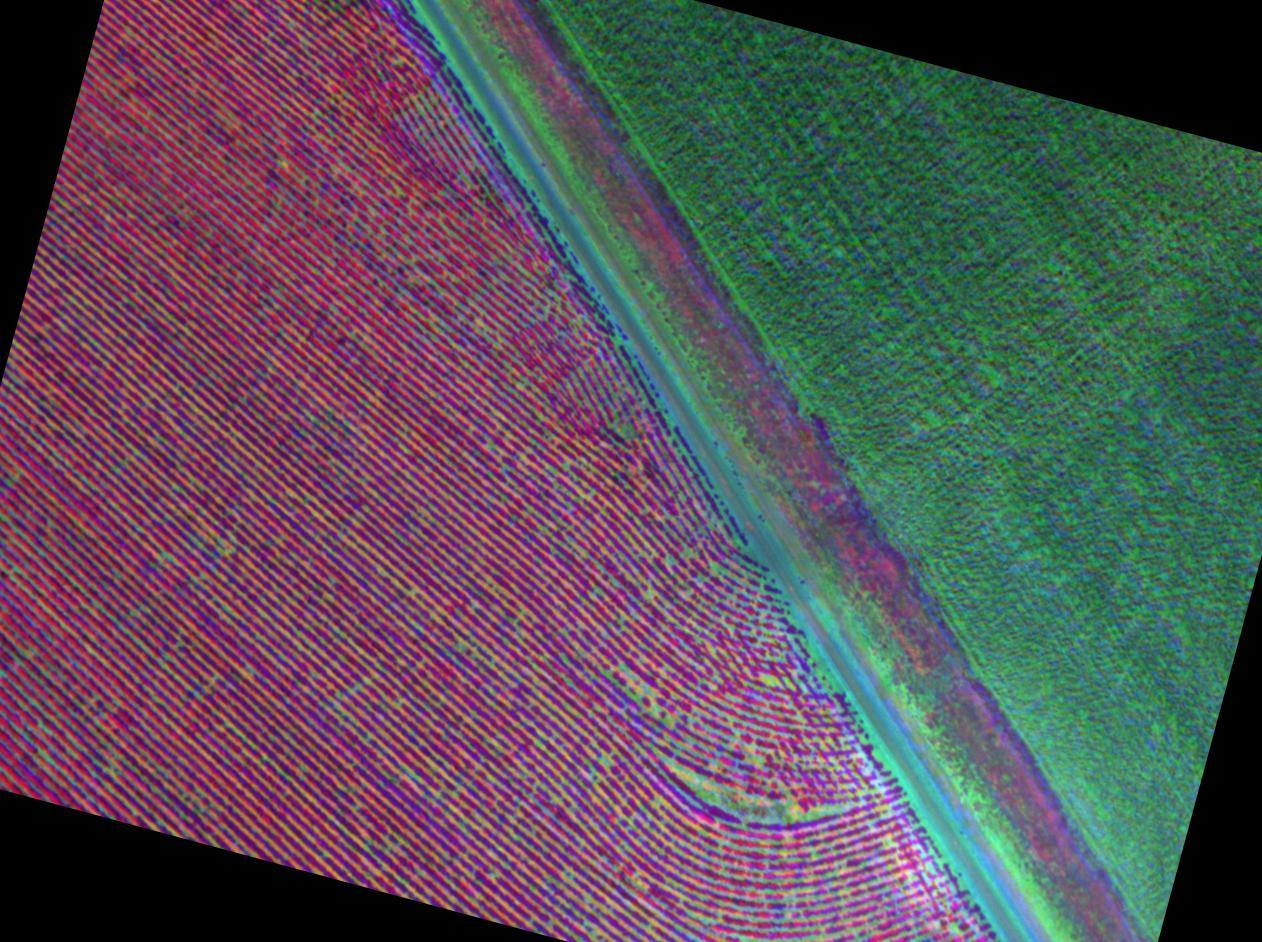dc: (651, 730, 851, 838), (483, 240, 570, 332), (651, 545, 738, 636), (598, 658, 677, 725)
